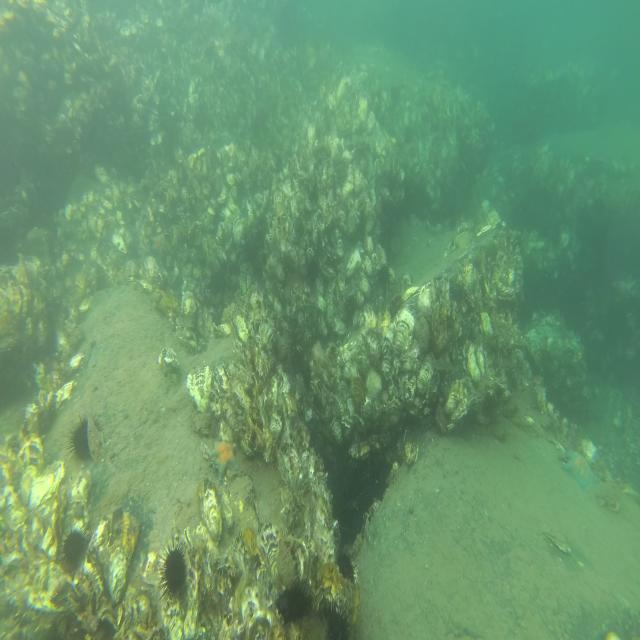echinus: (154, 538, 190, 607), (66, 410, 104, 466), (276, 577, 314, 629), (58, 523, 91, 574), (320, 592, 354, 640), (334, 543, 359, 588)
starfish: (558, 447, 601, 491), (207, 436, 240, 482)
